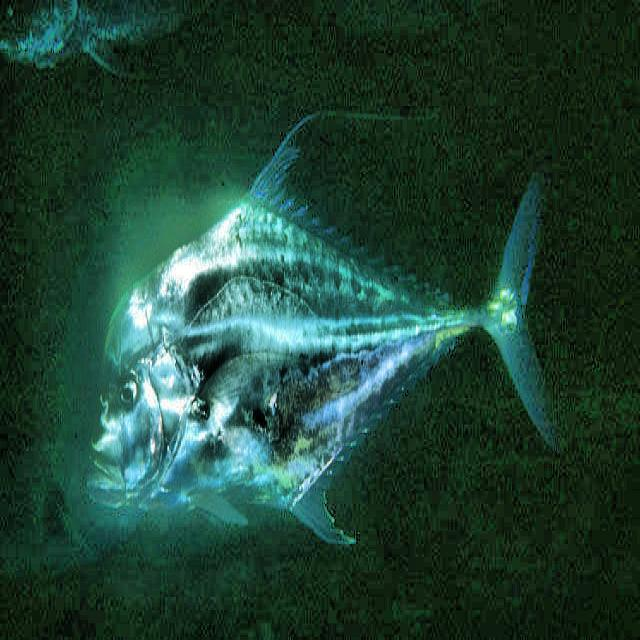fish: (86, 109, 561, 547)
